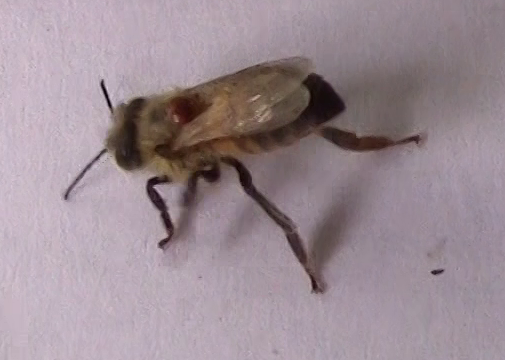Varroa destructor: (162, 89, 209, 131)
